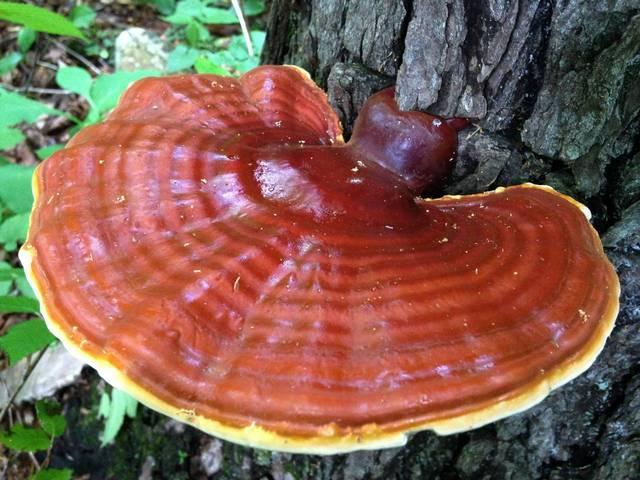poisonous_mushroom: (17, 63, 621, 456)
